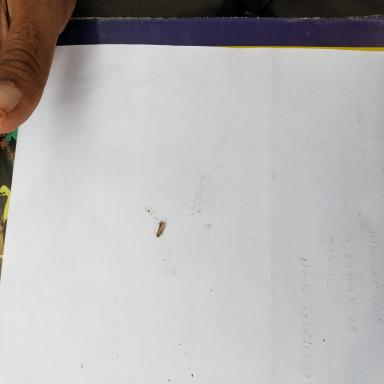pbw: (154, 220, 166, 237)
